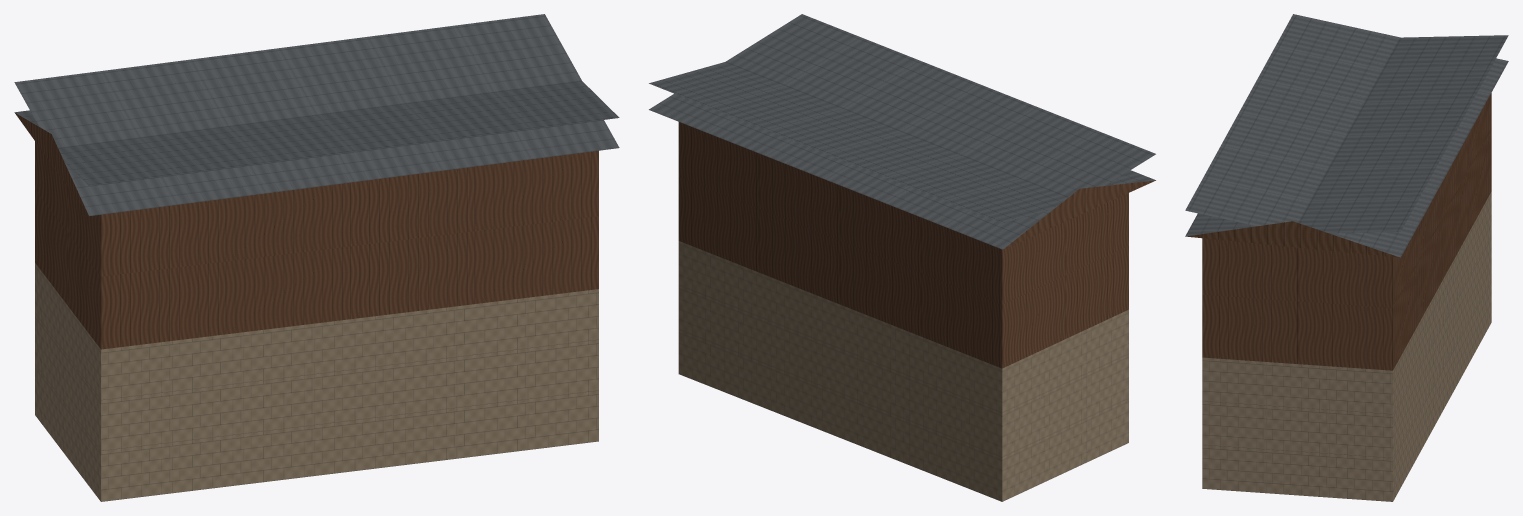
Rendered from bld_c-22_-20_806.gltf.
3 views of the same model, side by side, from view 1: azimuth 30°, elevation 25°; view 2: azimuth 150°, elevation 25°; view 3: azimuth 270°, elevation 25° (orthographic). The views are drawn at different scales.
Parts seen in each view (by area): view 1: bld_c-22_-20_806; view 2: bld_c-22_-20_806; view 3: bld_c-22_-20_806.
Boxes of the visible parts, x1=… form: bld_c-22_-20_806: x1=14, y1=14, x2=619, y2=501; bld_c-22_-20_806: x1=649, y1=14, x2=1155, y2=501; bld_c-22_-20_806: x1=1185, y1=14, x2=1508, y2=501.
Size of the model in its own units: 18.01 by 10.9 by 11.31.
4 materials, 4 textured.
